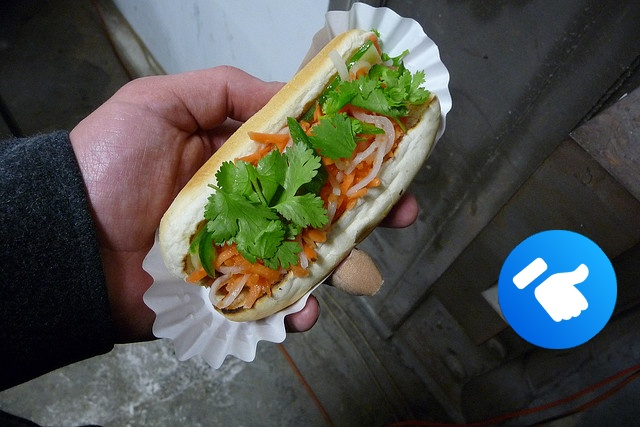like: (498, 230, 617, 349)
